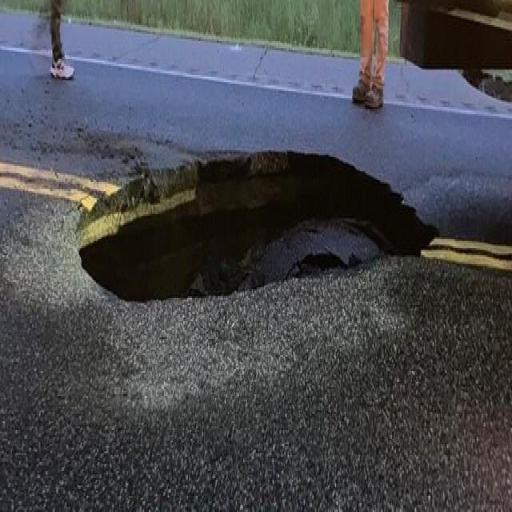Concentric_Crack: (80, 152, 435, 300)
